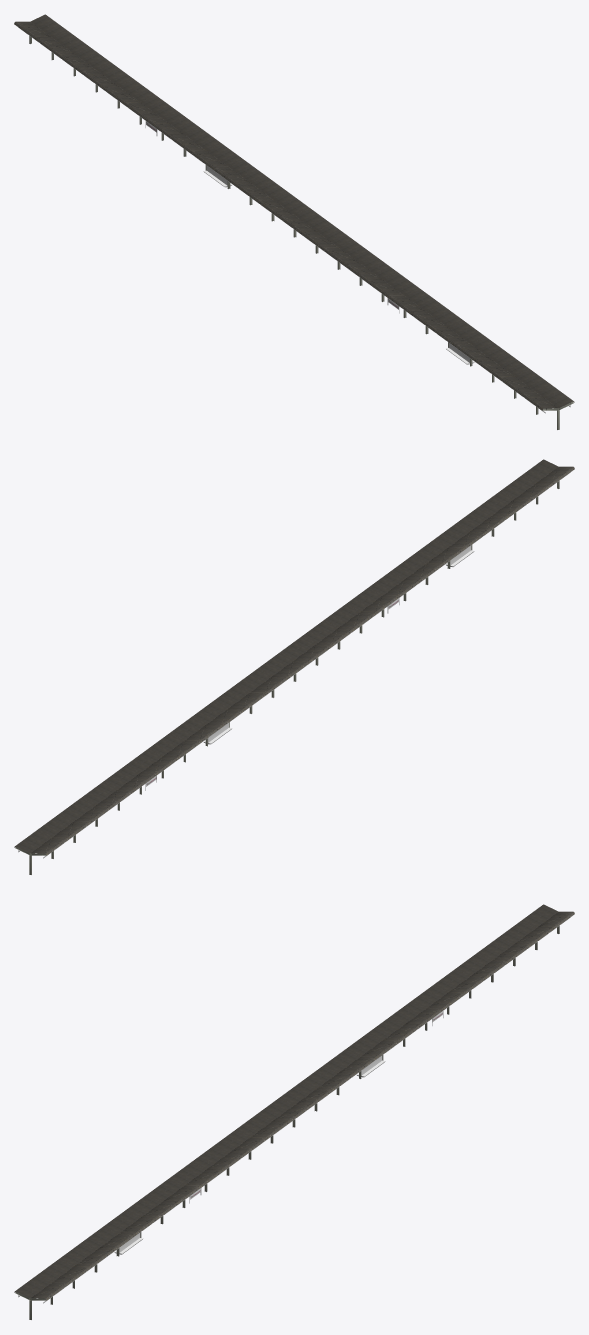
The model's file is ST_SHIMA_YANE24.glb.
The picture shows the model from 3 angles, top to bottom: view 1: azimuth 30°, elevation 25°; view 2: azimuth 150°, elevation 25°; view 3: azimuth 330°, elevation 25°; orthographic projection.
Parts seen in each view (by area): view 1: obj17; view 2: obj17; view 3: obj17.
Boxes of the visible parts, bbox=[...] form: obj17: bbox=[14, 14, 574, 410]; obj17: bbox=[14, 459, 574, 855]; obj17: bbox=[14, 904, 574, 1300].
Bounding box in the file's own units: 10.67 × 7.99 × 300.
87 materials, 61 textured.
